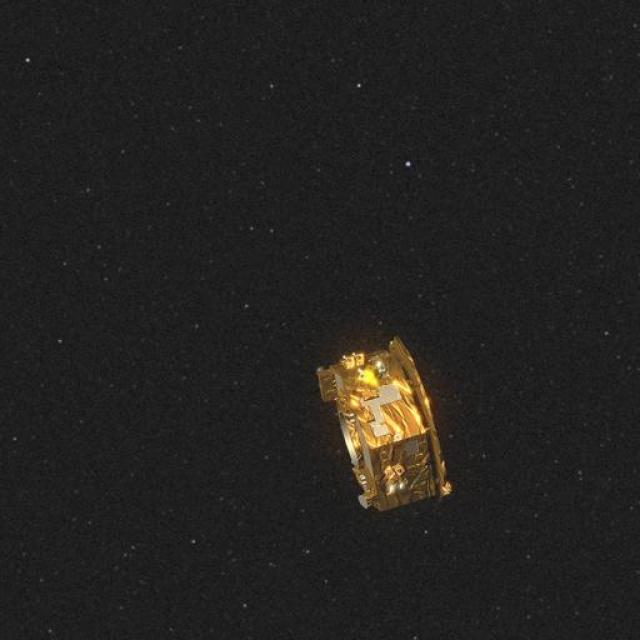lisa_pathfinder: (291, 306, 478, 549)
